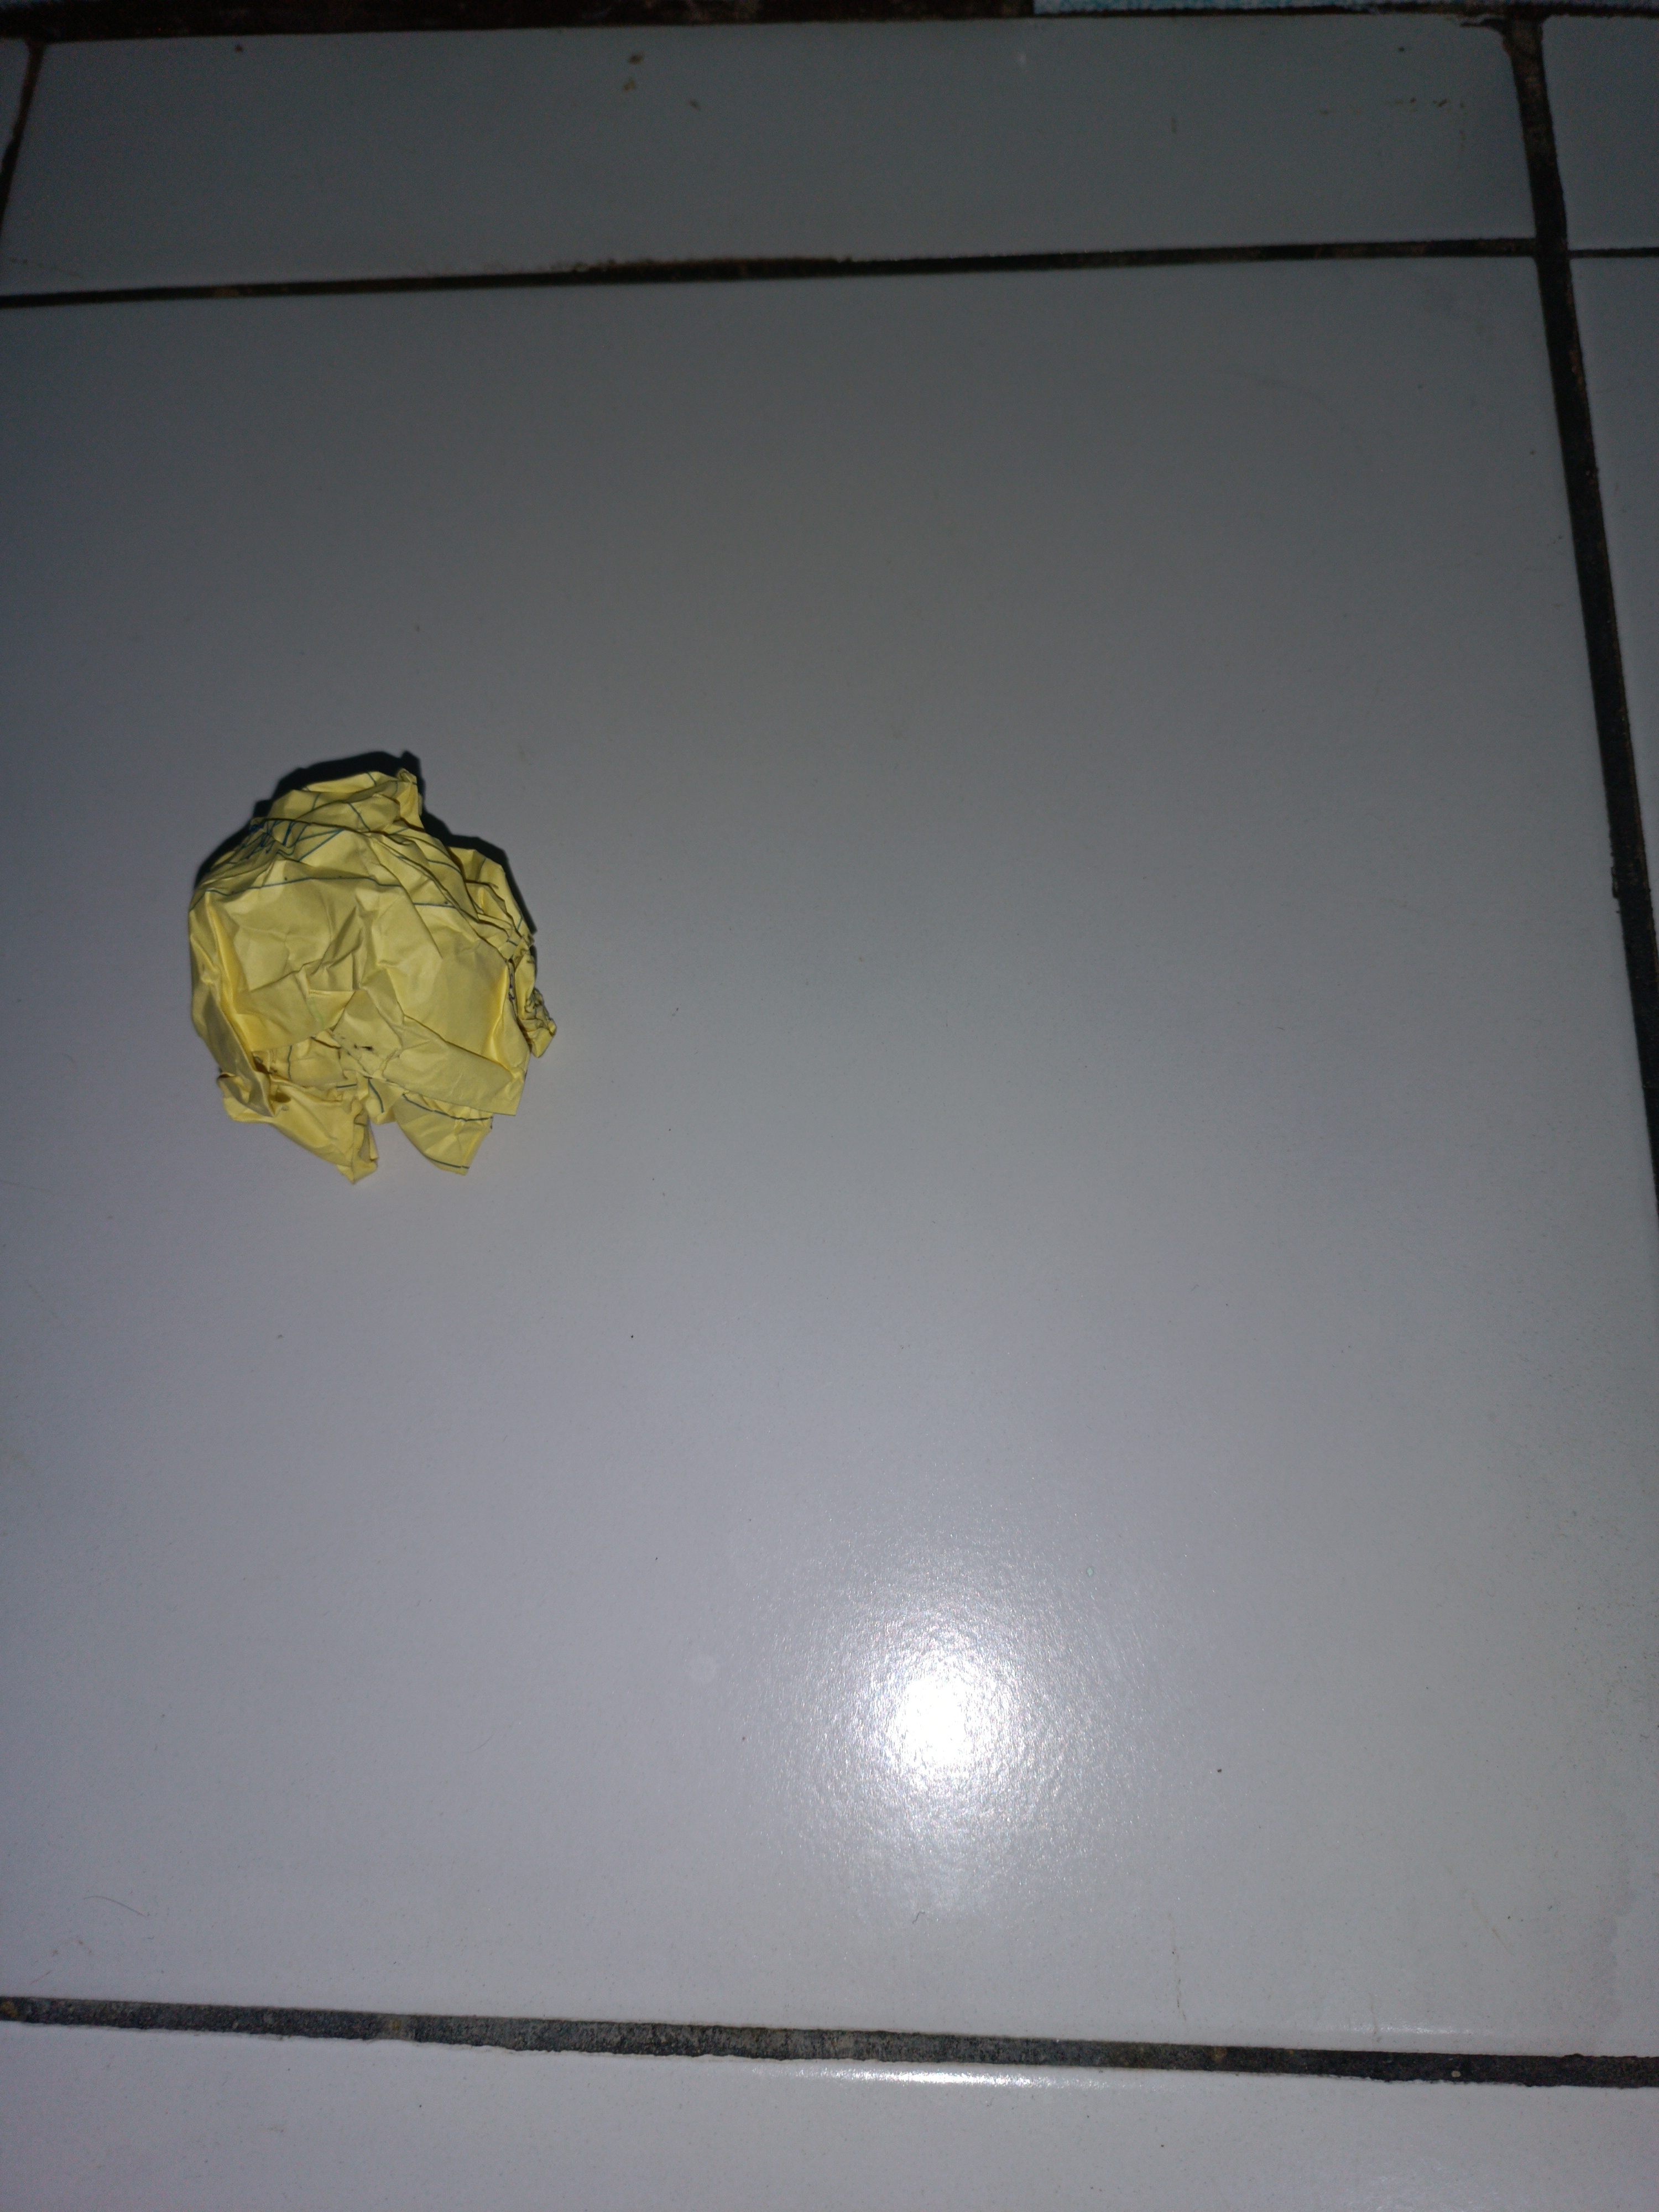Paper: (118, 733, 575, 1338)
